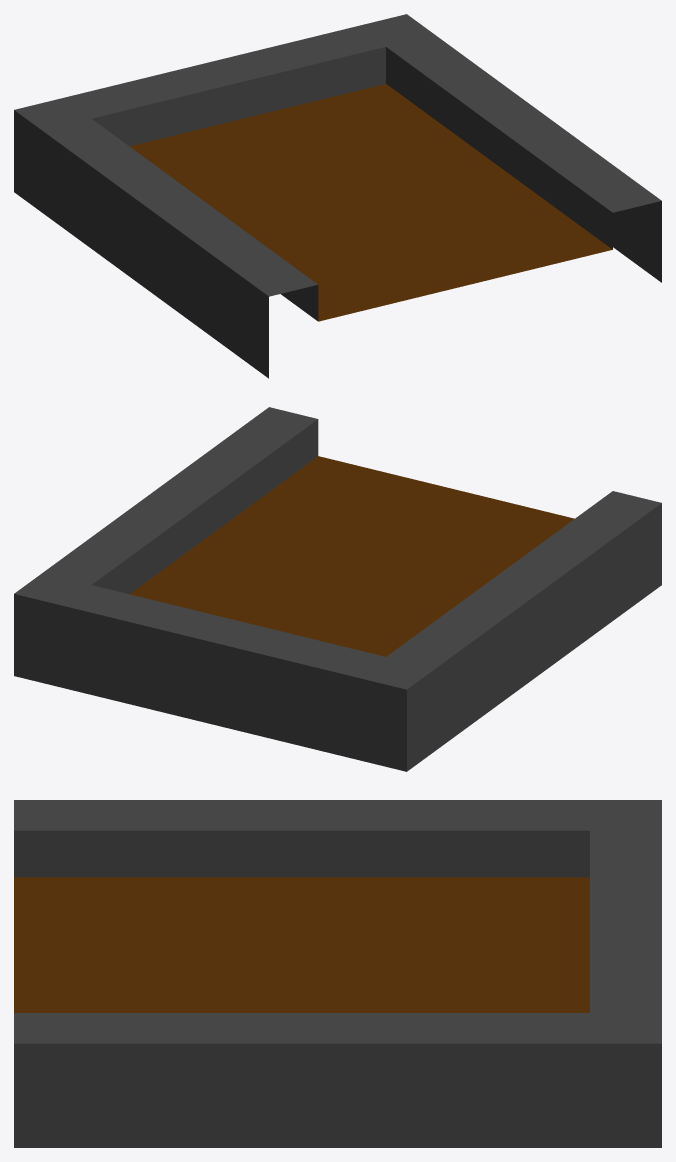
Rendered from Door01.fbx.
The picture shows the model from 3 angles, top to bottom: view 1: azimuth 30°, elevation 25°; view 2: azimuth 150°, elevation 25°; view 3: azimuth 270°, elevation 25°; orthographic projection. The views are drawn at different scales.
Visible parts, largest first — view 1: Door01; view 2: Door01; view 3: Door01.
Boxes of the visible parts, x1,y1,x2,y2 form: Door01: [14, 14, 661, 378]; Door01: [14, 407, 661, 771]; Door01: [14, 800, 661, 1147].
Bounding box in the file's own units: 20000 × 4000 × 22500.
